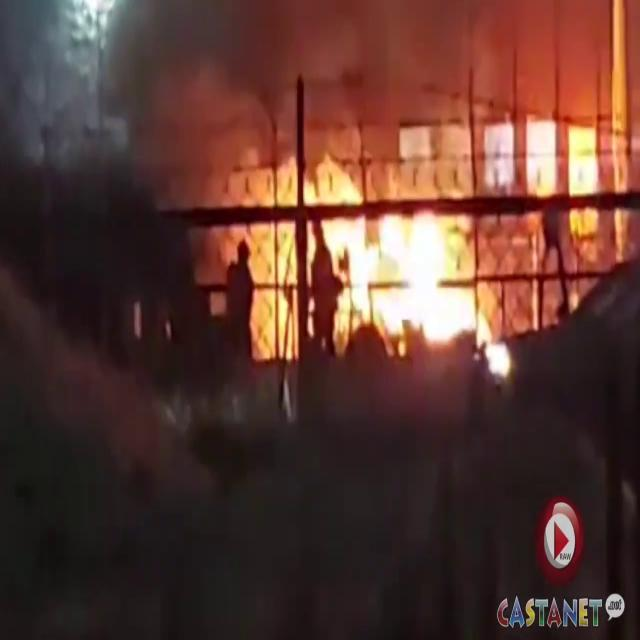Fire: (237, 153, 504, 373)
Smoke: (42, 0, 638, 164)
